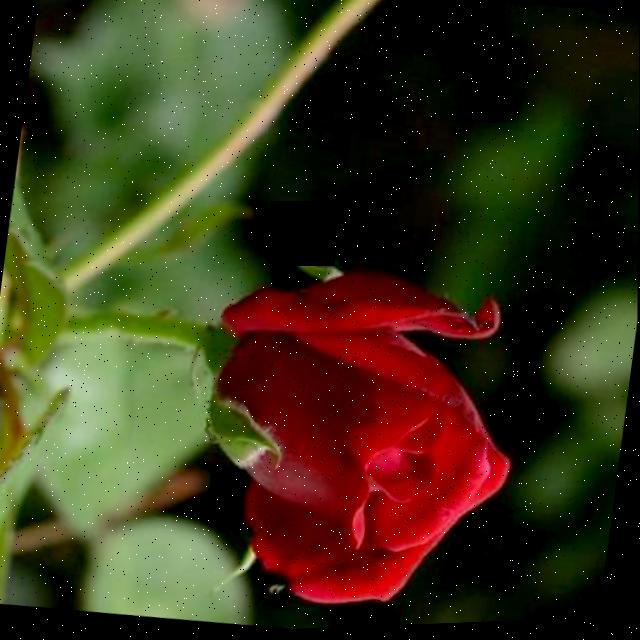rose: (121, 205, 563, 636)
